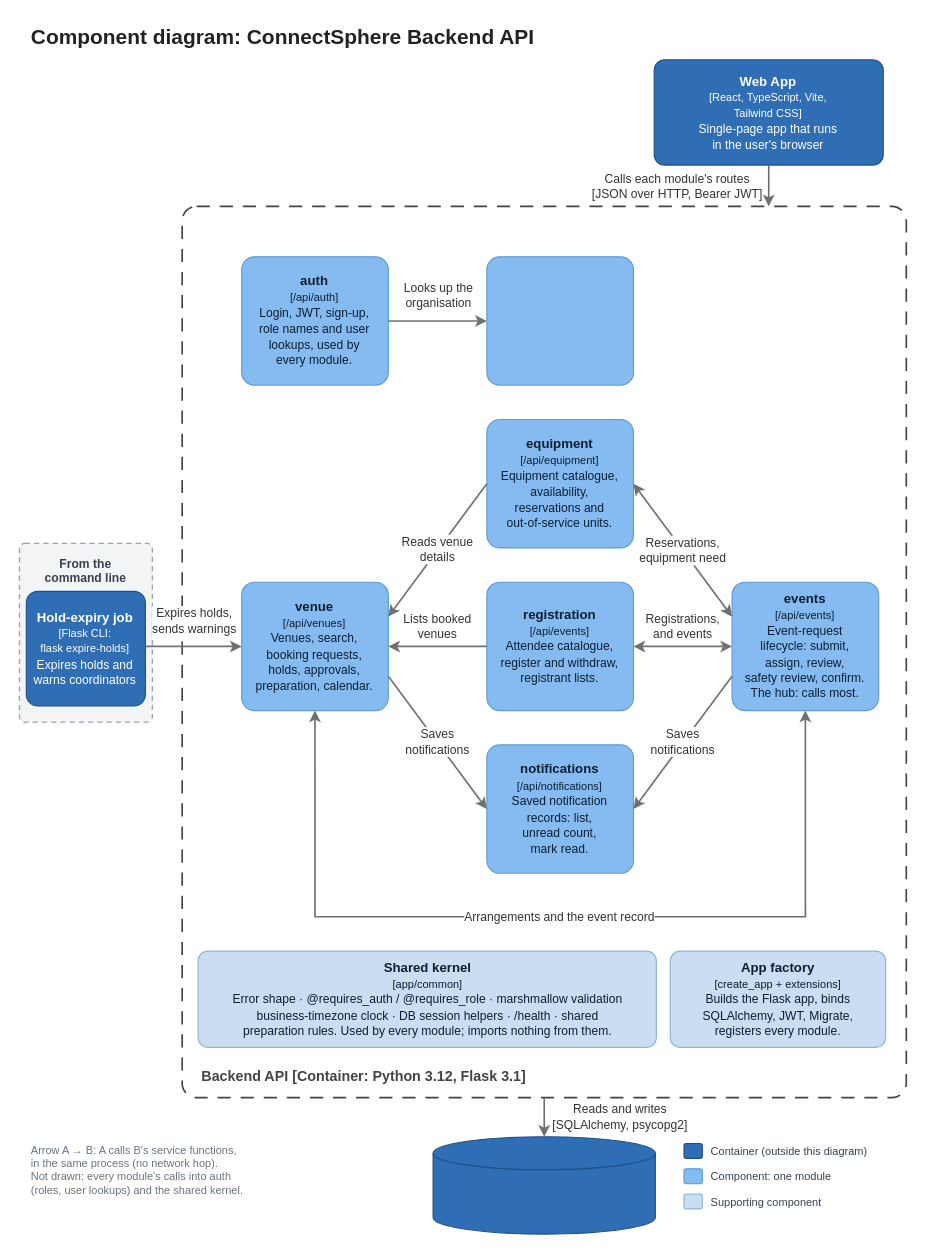
Image size: 935x1254. Some labels were removed from this diagram. The shapes that lost their labels are listed below. From the top down, each one's centre as x and y in pixels, then its label:
At (x=559, y=320): "organisations [/api/organisations] Client-organisation catalogue.".
At (x=543, y=1185): "Database [PostgreSQL 16] Every module's tables".
